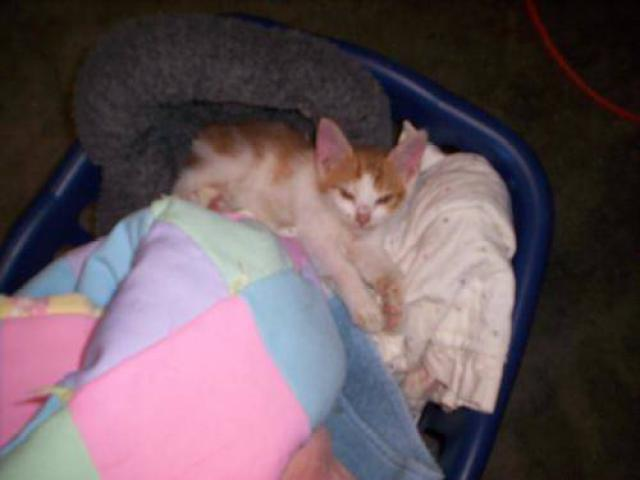cat: (161, 117, 427, 336)
